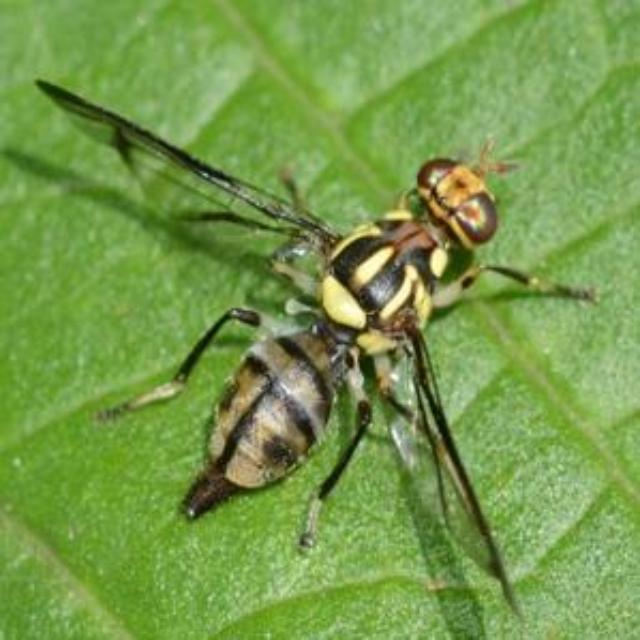melon fly: (39, 31, 568, 601)
